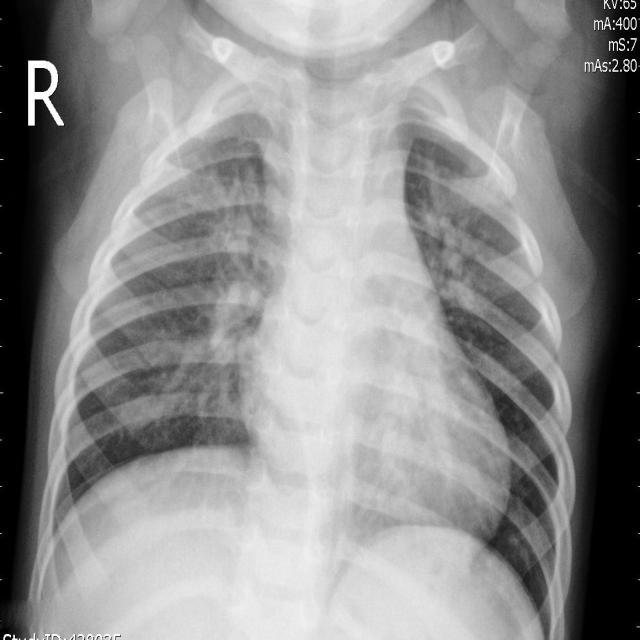low-pneumonia: (170, 268, 275, 448), (412, 179, 523, 330), (174, 166, 270, 280)
